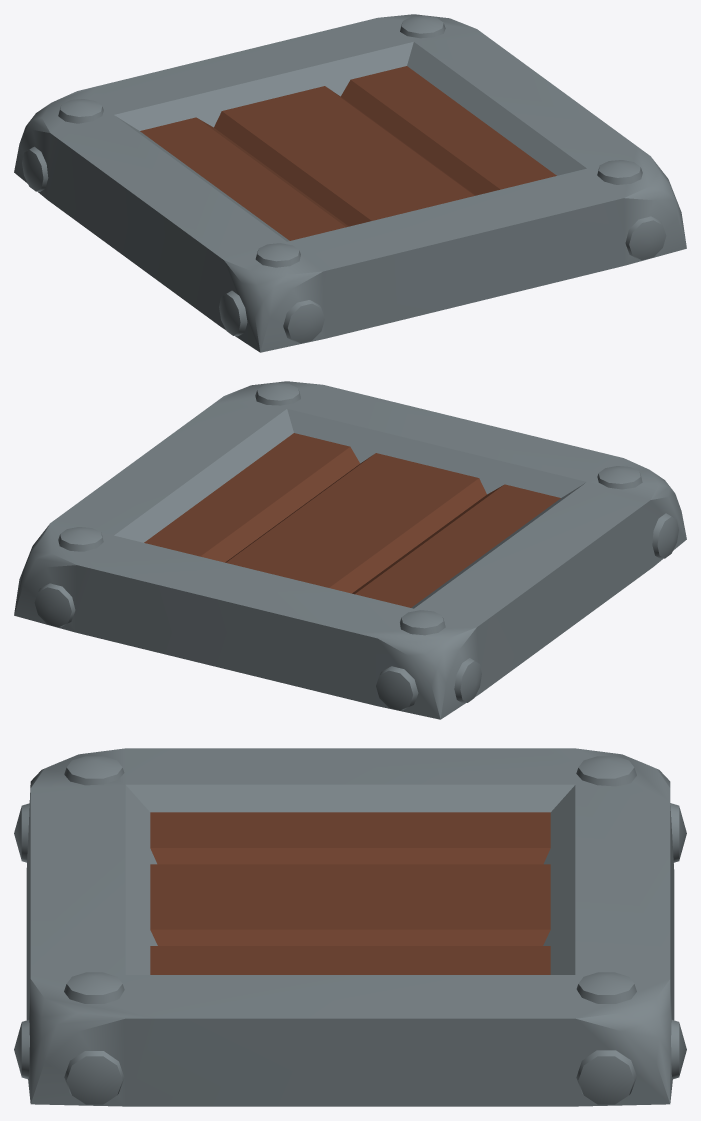
File: crateDarkLid.fbx
The picture shows the model from 3 angles, top to bottom: view 1: azimuth 30°, elevation 25°; view 2: azimuth 150°, elevation 25°; view 3: azimuth 270°, elevation 25°; orthographic projection. The views are drawn at different scales.
Visible parts, largest first — view 1: crateDark.001; view 2: crateDark.001; view 3: crateDark.001.
Boxes of the visible parts, x1,y1,x2,y2 form: crateDark.001: [14, 14, 686, 352]; crateDark.001: [14, 381, 686, 719]; crateDark.001: [14, 748, 686, 1106].
Size of the model in its own units: 105 by 17.45 by 105.
